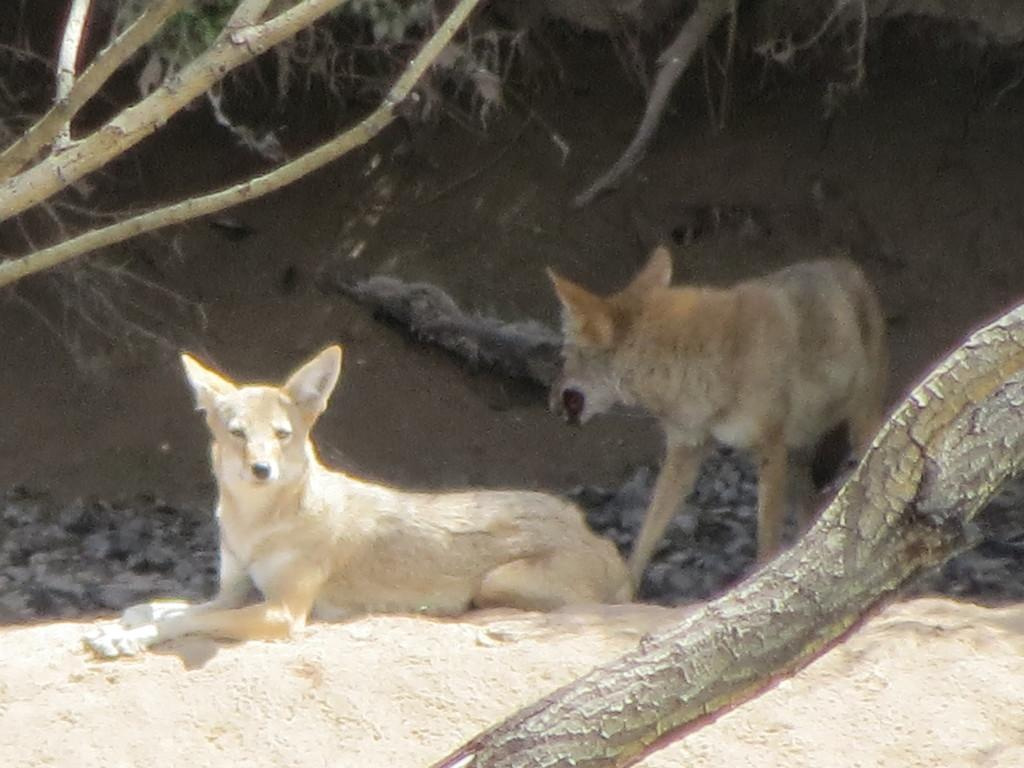Coyote: (80, 341, 633, 666), (540, 243, 890, 599)
